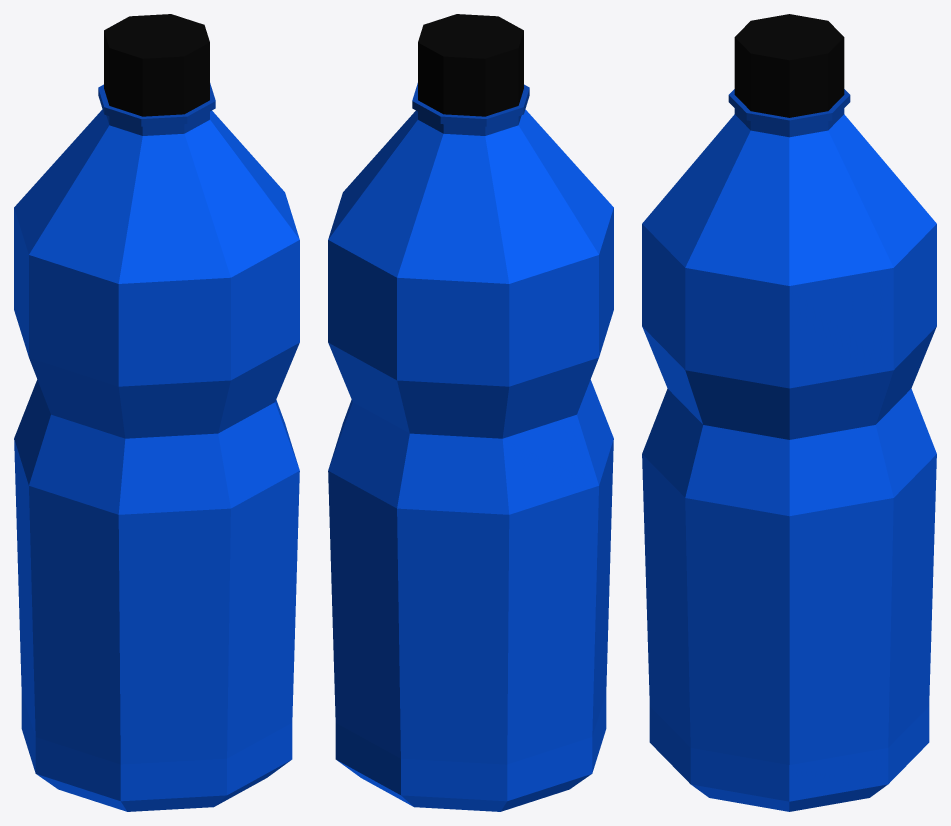
The model's file is Water_Bottle.fbx.
3 views of the same model, side by side, from view 1: azimuth 30°, elevation 25°; view 2: azimuth 150°, elevation 25°; view 3: azimuth 270°, elevation 25° (orthographic).
Visible parts, largest first — view 1: Water Bottle; view 2: Water Bottle; view 3: Water Bottle.
Boxes of the visible parts, <box> form: Water Bottle: <box>14,14,299,811</box>; Water Bottle: <box>328,14,613,811</box>; Water Bottle: <box>642,14,936,811</box>.
Bounding box in the file's own units: 10.56 × 28.7 × 10.56.
